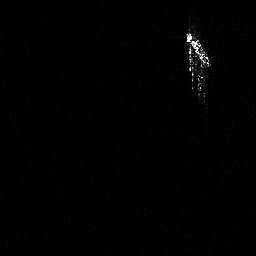ship: (182, 27, 215, 108)
